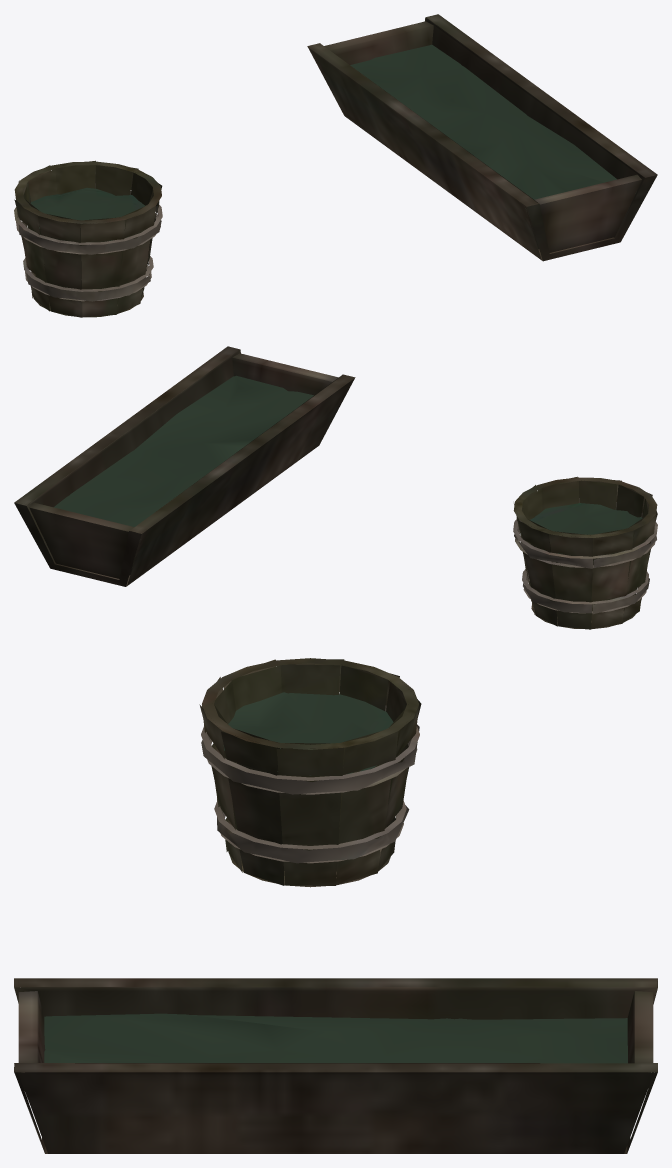
Rendered from vc_trough.glb.
3 views of the same model, one above another, from view 1: azimuth 30°, elevation 25°; view 2: azimuth 150°, elevation 25°; view 3: azimuth 270°, elevation 25° (orthographic). The views are drawn at different scales.
Parts seen in each view (by area): view 1: bucket_anvil_and_water1_0; view 2: bucket_anvil_and_water1_0; view 3: bucket_anvil_and_water1_0.
Boxes of the visible parts, x1,y1,x2,y2 form: bucket_anvil_and_water1_0: (14,14,657,317); bucket_anvil_and_water1_0: (14,346,657,629); bucket_anvil_and_water1_0: (14,658,657,1153).
Size of the model in its own units: 3.25 by 0.5886 by 2.31.
Materials: 1 (1 with a texture image).
